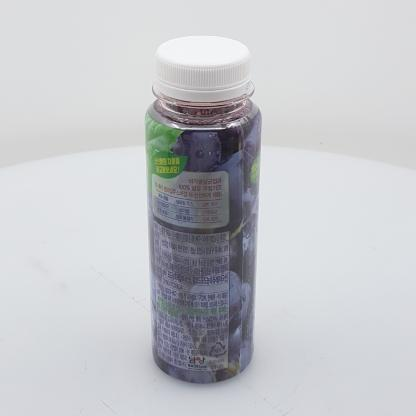---------210ML: (144, 35, 262, 384)
